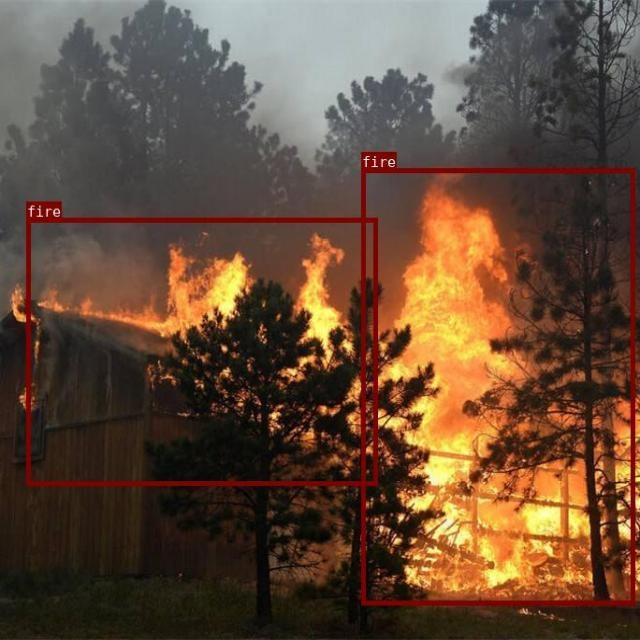fire: (361, 167, 635, 604), (26, 218, 377, 485)
